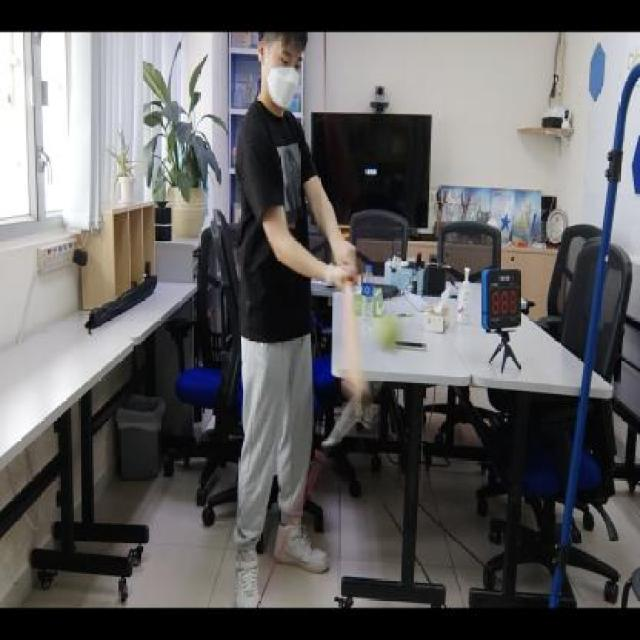baseball: (373, 309, 404, 357)
